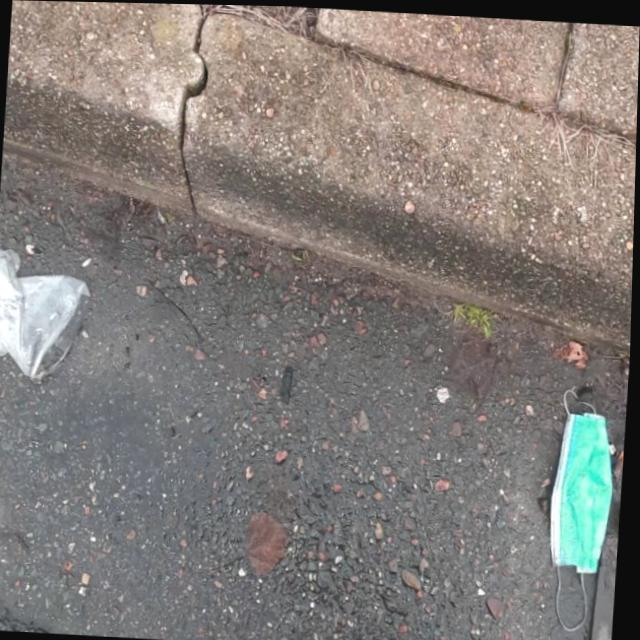Mask: (546, 378, 617, 626)
